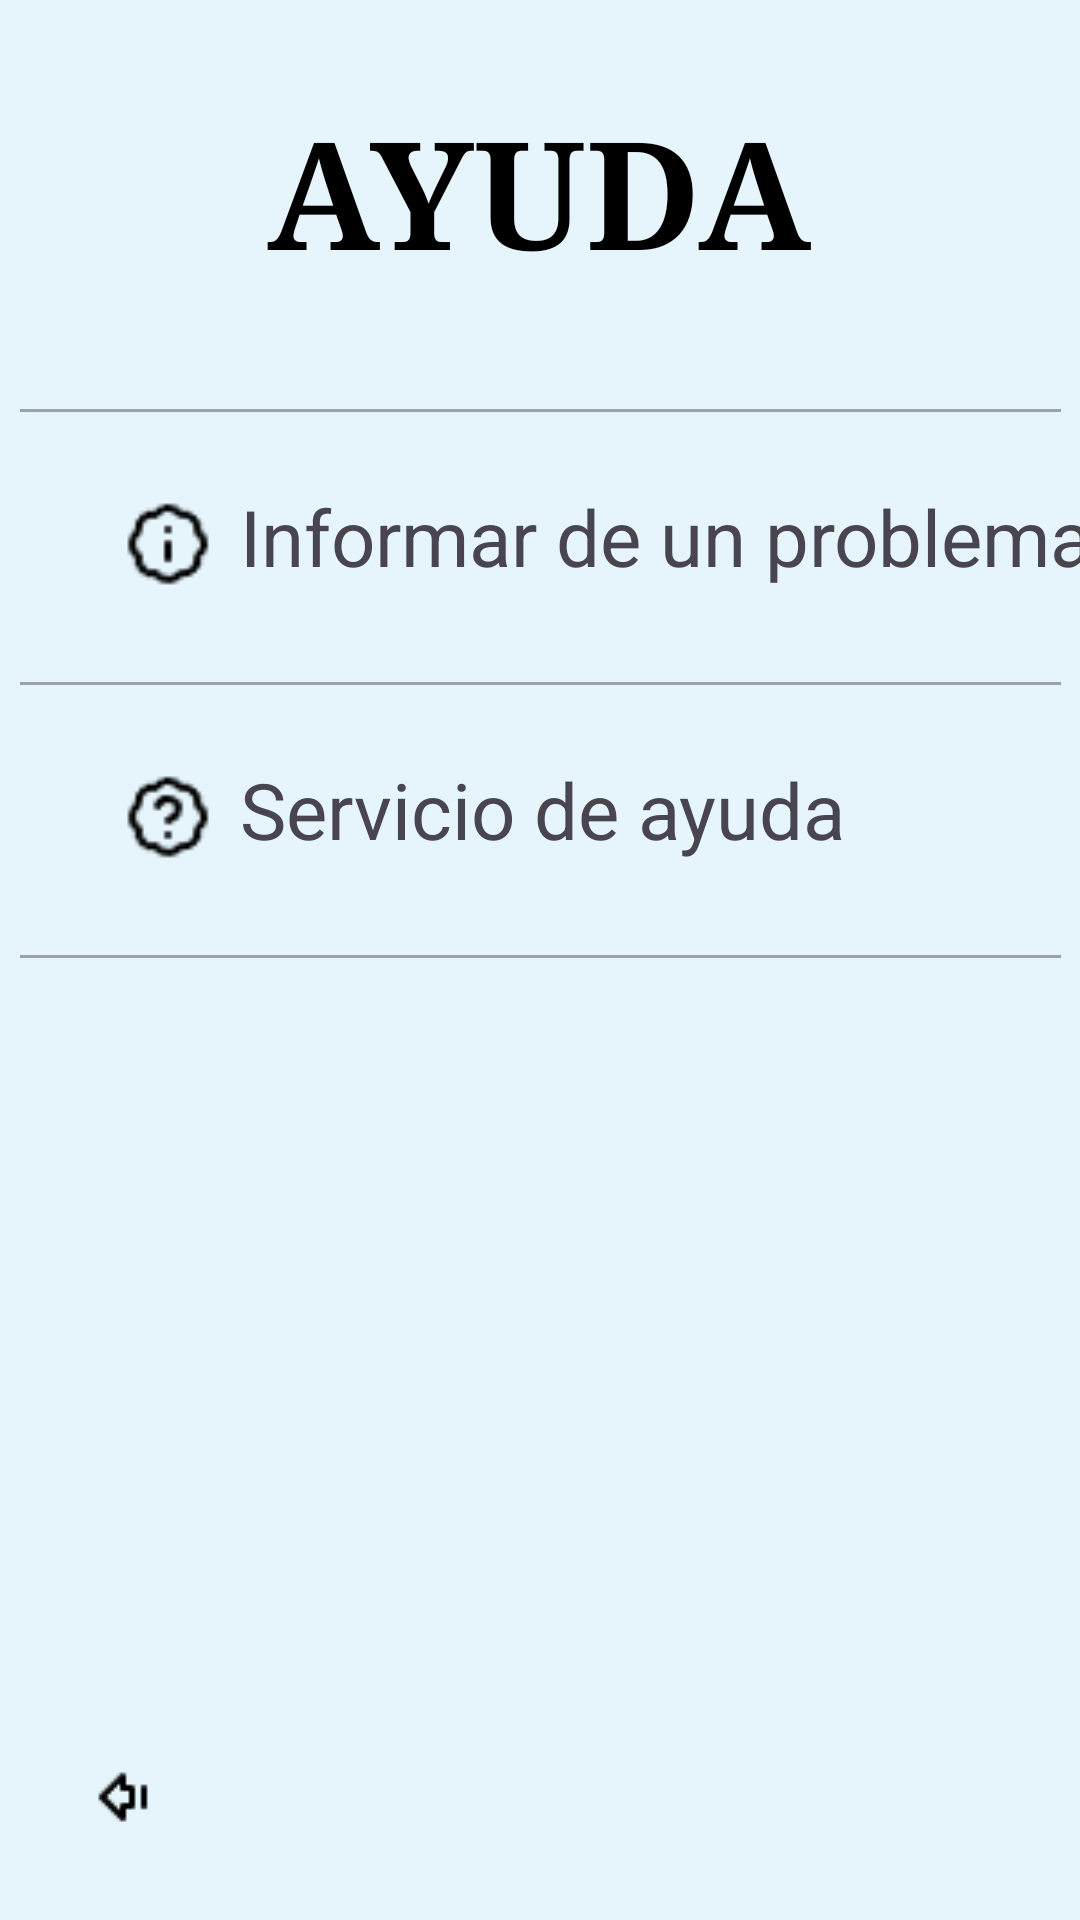

Screen size 1080x1920. Icon name, then its box in pixels as box(x1, y1, x2, y2):
back: box(98, 1772, 148, 1822)
